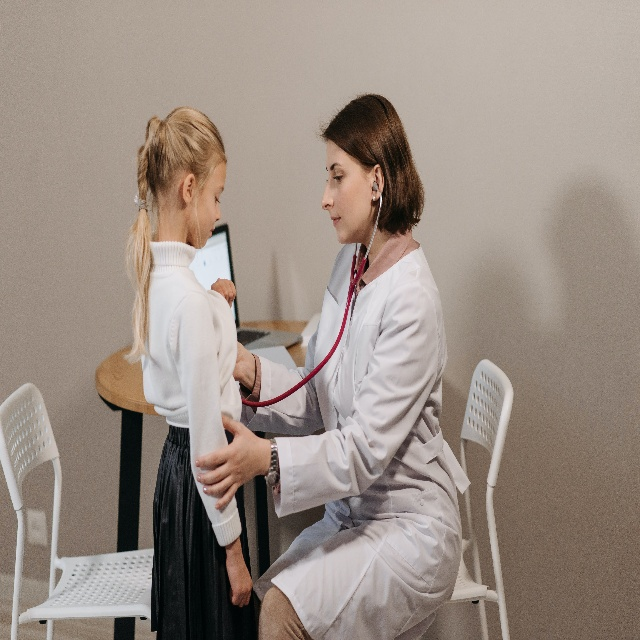Sin_guantes: (195, 413, 269, 510), (224, 557, 255, 609), (209, 273, 237, 305)
